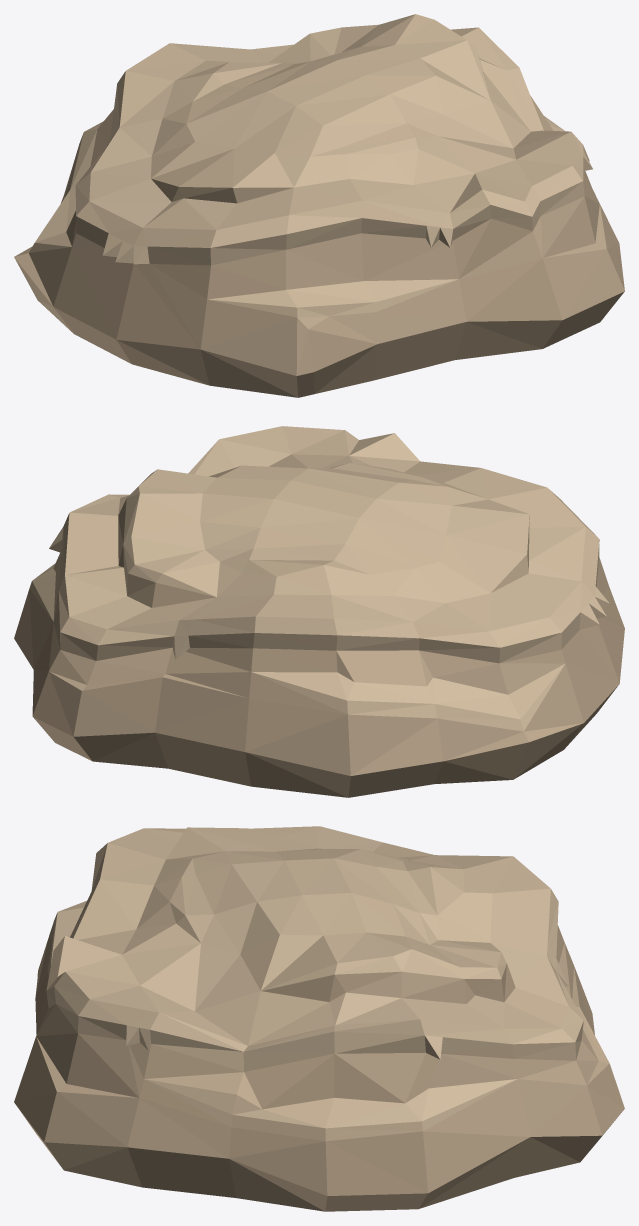
The model's file is SM_Env_DirtMound_01.fbx.
3 views of the same model, one above another, from view 1: azimuth 30°, elevation 25°; view 2: azimuth 150°, elevation 25°; view 3: azimuth 270°, elevation 25° (orthographic). The views are drawn at different scales.
Visible parts, largest first — view 1: SM_Env_DirtMound_01; view 2: SM_Env_DirtMound_01; view 3: SM_Env_DirtMound_01.
Boxes of the visible parts, box(x1,y1,x2,y2) form: SM_Env_DirtMound_01: box(14, 14, 624, 397); SM_Env_DirtMound_01: box(14, 426, 624, 797); SM_Env_DirtMound_01: box(14, 826, 624, 1211).
Size of the model in its own units: 0.0791 by 0.028 by 0.0736.
Materials: 1 (1 with a texture image).
